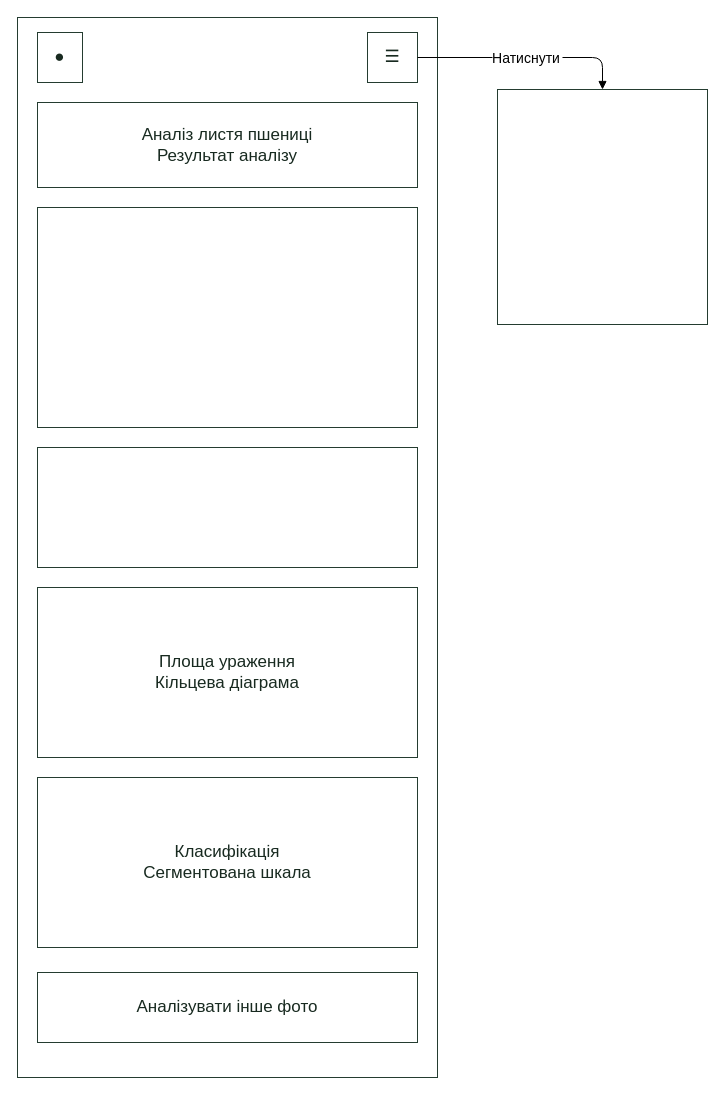
Image size: 725x1095. Some labels were removed from this diagram. Here are the shapes that lost their labels. From the top down, the box of each, then its label:
(496, 88, 708, 324): Аналіз Довідник Історія Акаунт
(36, 206, 418, 428): ФОТО ЛИСТКА
(36, 446, 418, 568): Назва хвороби Опис · Посилання на статтю
